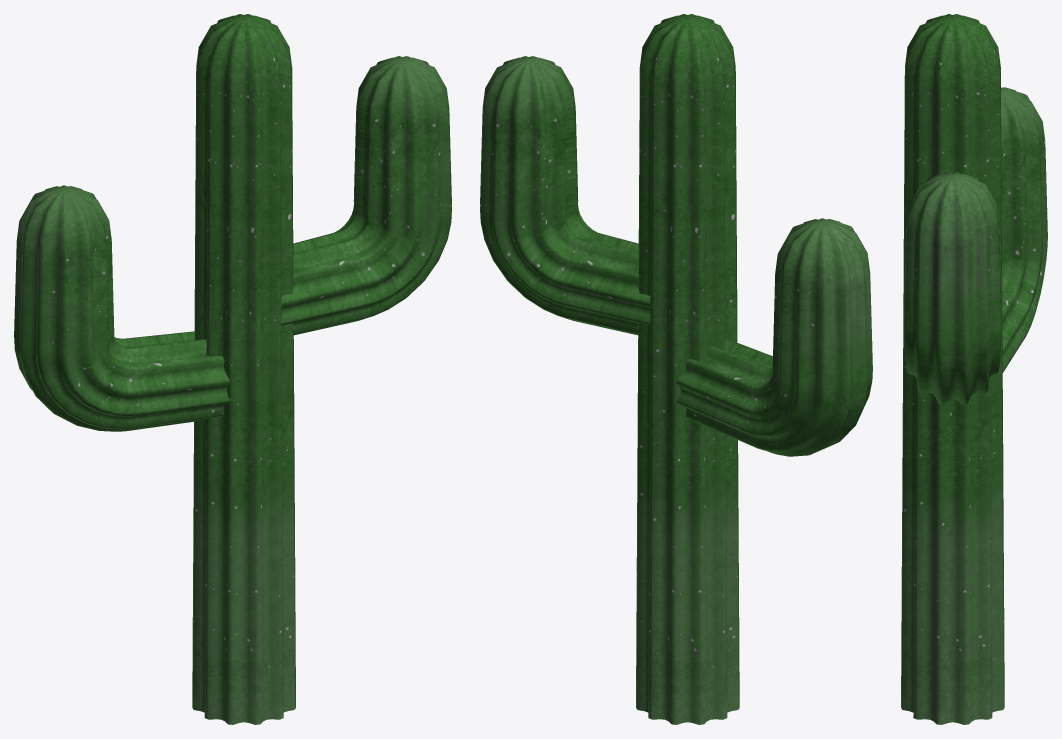
The model's file is tree.glb.
3 renders of one model, left to right at view 1: azimuth 30°, elevation 25°; view 2: azimuth 150°, elevation 25°; view 3: azimuth 270°, elevation 25°, orthographic.
Visible parts, largest first — view 1: pCylinder4; view 2: pCylinder4; view 3: pCylinder4.
Boxes of the visible parts, bbox=[...] form: pCylinder4: bbox=[14, 14, 451, 724]; pCylinder4: bbox=[480, 14, 872, 724]; pCylinder4: bbox=[901, 14, 1047, 724].
Bounding box in the file's own units: 1.22 × 1.98 × 0.3861.
1 material, 1 textured.
